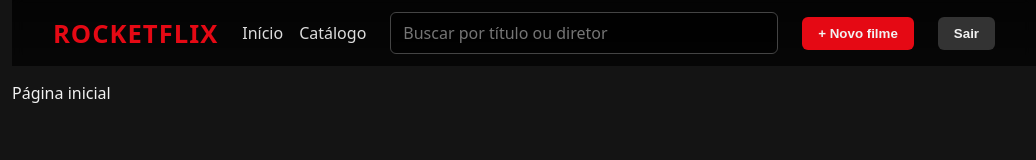
it: autenticação › sair encerra a sessão
Click the button "Sair" at (966, 33), box [938,16,995,50]
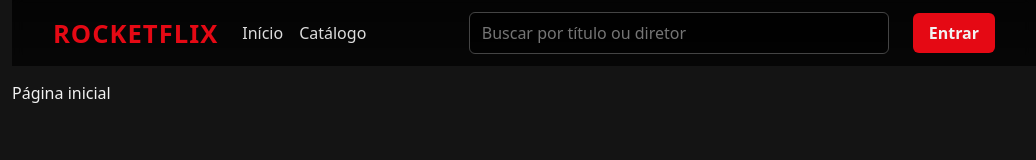
Expected: the link "Entrar" is shown, [913,13,995,53]
